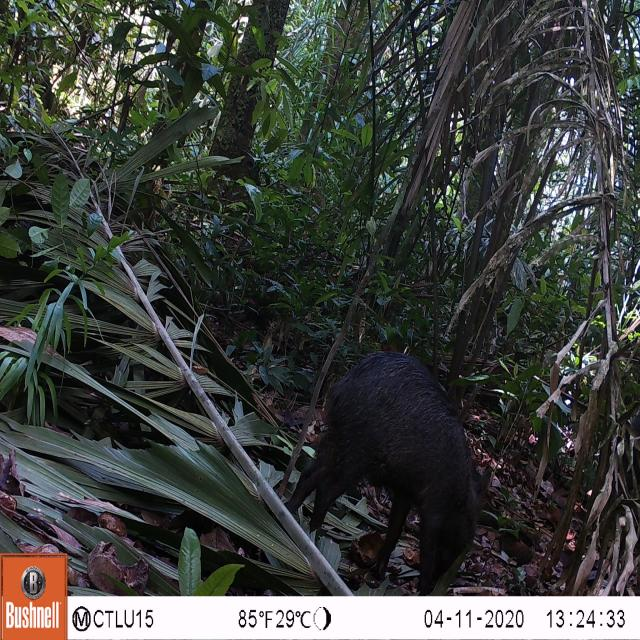White-lipped Peccary: (277, 336, 499, 590)
